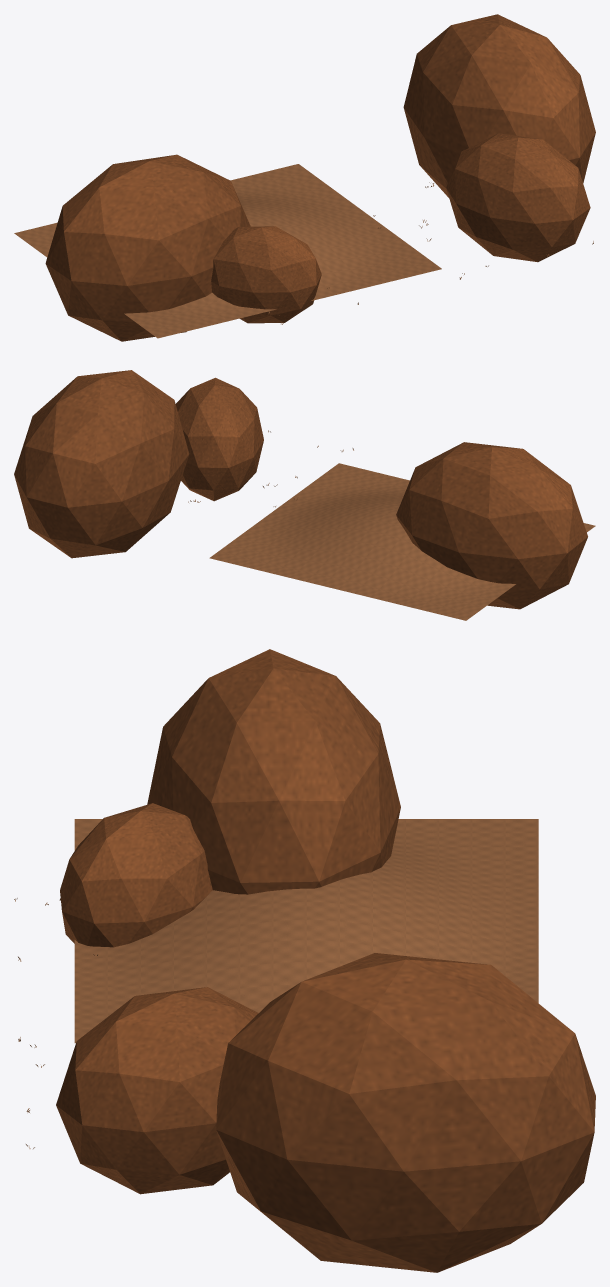
Rendered from desertHills-v1.glb.
3 renders of one model, top to bottom at view 1: azimuth 30°, elevation 25°; view 2: azimuth 150°, elevation 25°; view 3: azimuth 270°, elevation 25°, orthographic. The views are drawn at different scales.
Parts seen in each view (by area): view 1: Fractured rock outcrop, Distant terrain rise; view 2: Fractured rock outcrop, Distant terrain rise; view 3: Fractured rock outcrop, Distant terrain rise.
Boxes of the visible parts, x1,y1,x2,y2 form: Fractured rock outcrop: [45, 14, 595, 341]; Distant terrain rise: [14, 164, 441, 338]; Fractured rock outcrop: [14, 370, 587, 609]; Distant terrain rise: [209, 463, 595, 620]; Fractured rock outcrop: [56, 649, 595, 1272]; Distant terrain rise: [74, 819, 538, 1043].
Size of what is drawn, in the model's own units: 31.47 by 10.2 by 17.55.
2 materials, 2 textured.
